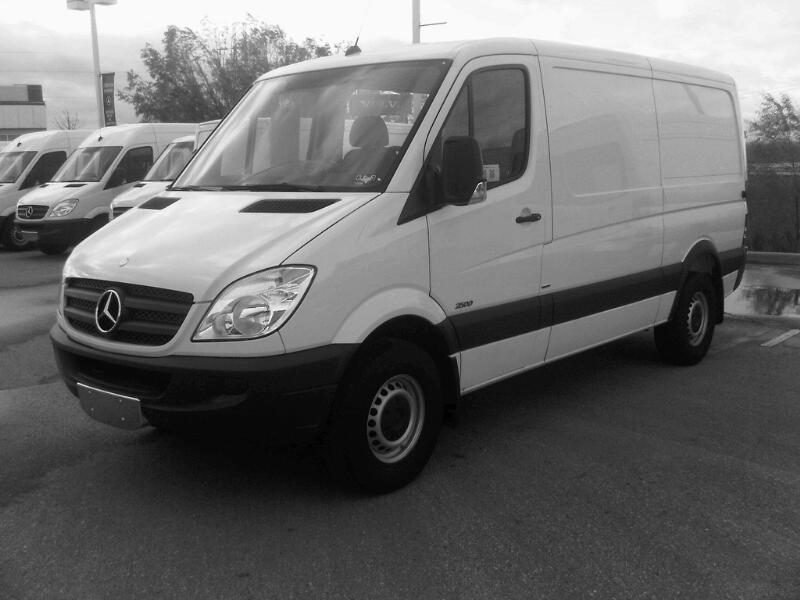car: (49, 34, 751, 501)
